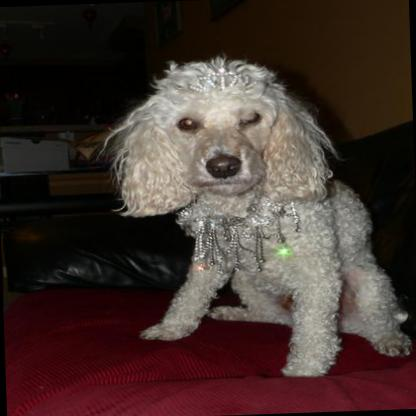toy_poodle: (110, 50, 411, 383)
